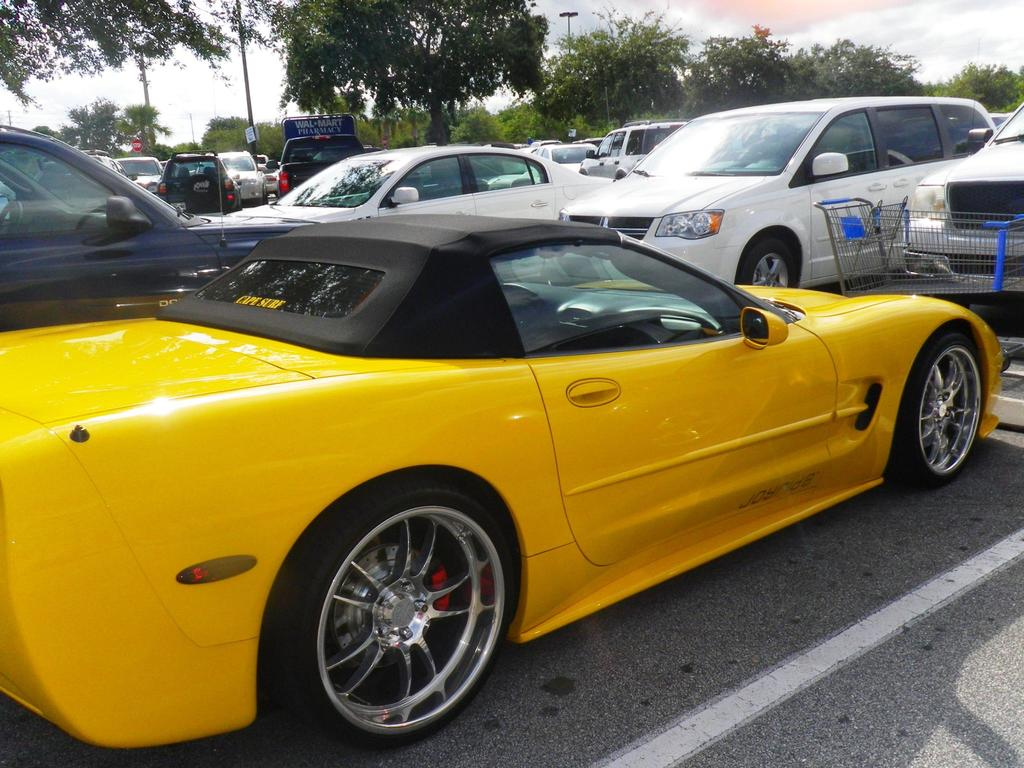Car: (0, 96, 1024, 749)
